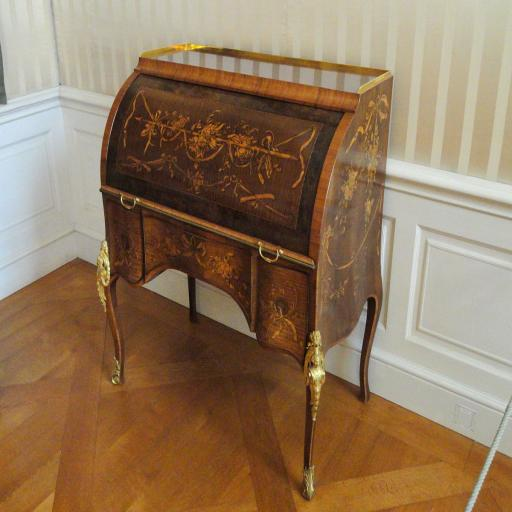desk: (97, 44, 392, 499)
wall: (0, 0, 512, 456)
